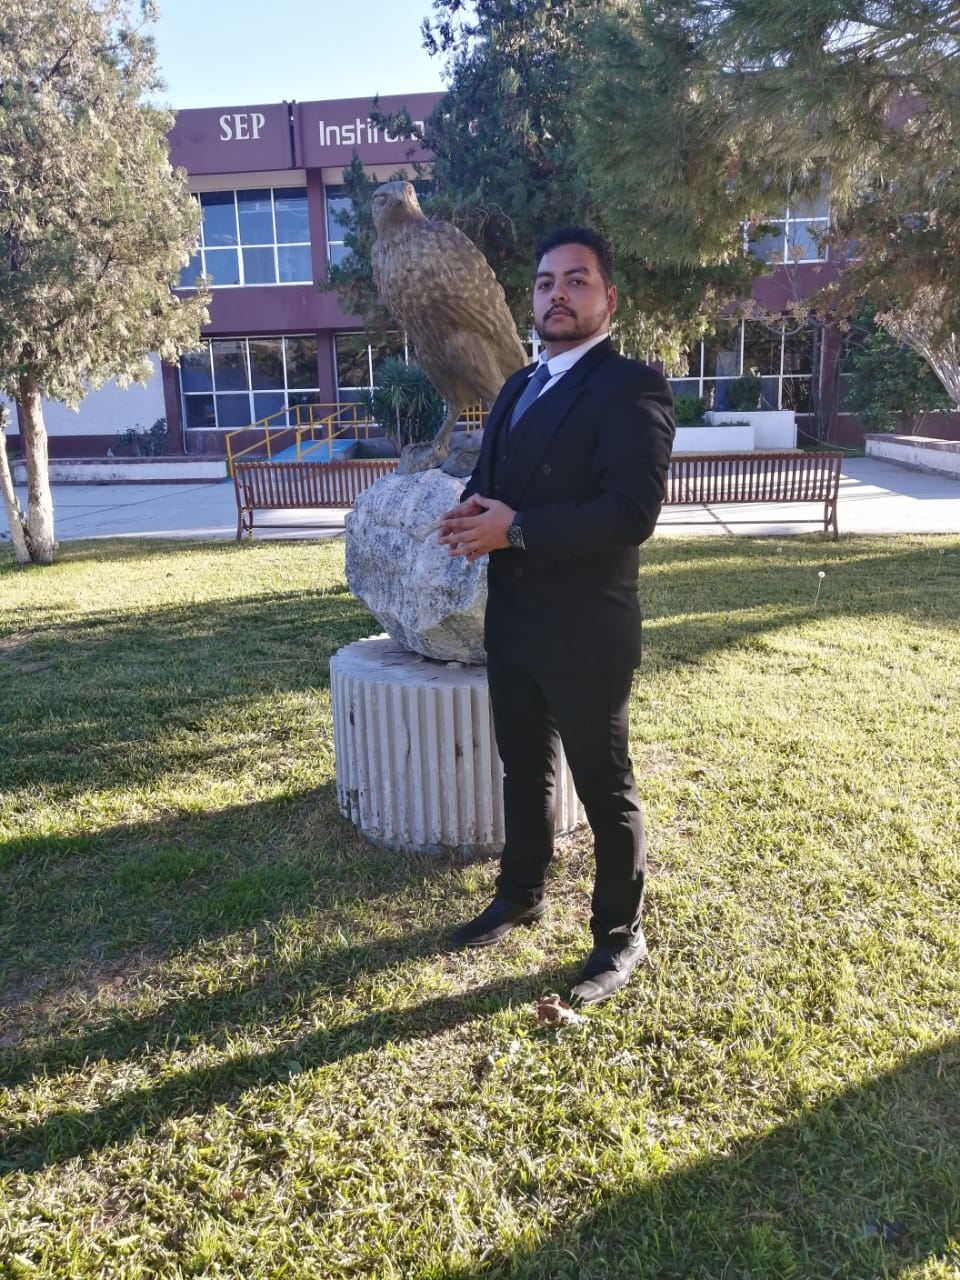Yoshi: (429, 215, 749, 705)
